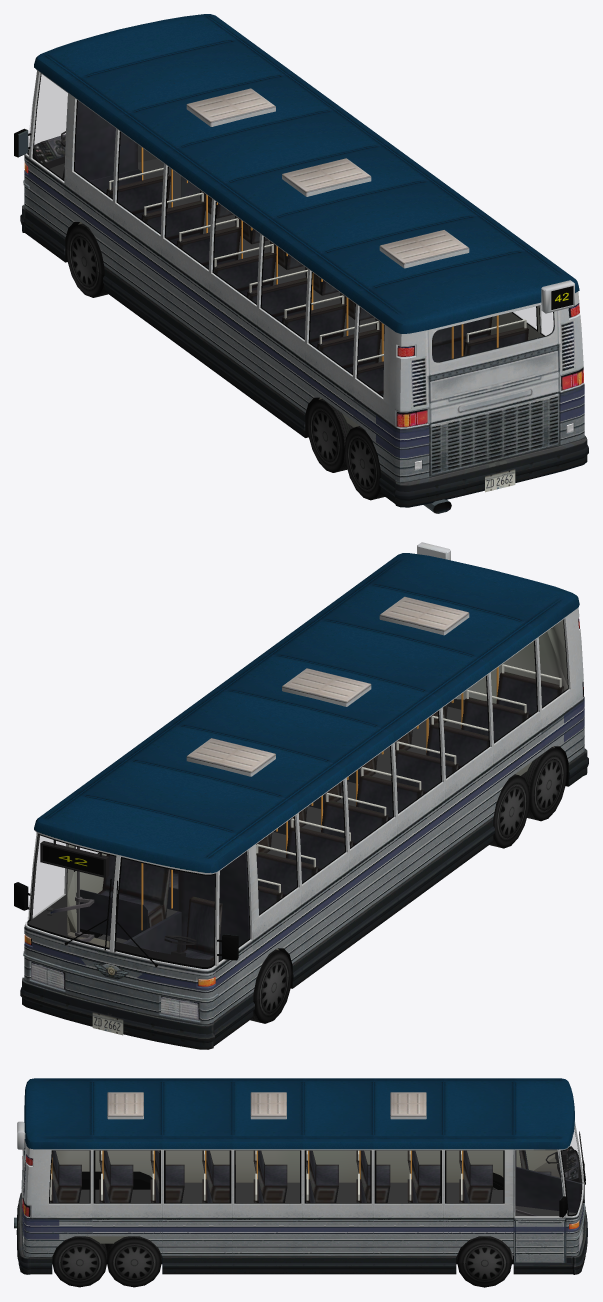
Rendered from busdrv_bus.FBX.
The picture shows the model from 3 angles, top to bottom: view 1: azimuth 30°, elevation 25°; view 2: azimuth 150°, elevation 25°; view 3: azimuth 270°, elevation 25°; orthographic projection. The views are drawn at different scales.
Parts seen in each view (by area): view 1: busdrv_bus, wheel_lm, wheel_lf, wheel_lr; view 2: busdrv_bus, wheel_lr, wheel_lf, wheel_lm; view 3: busdrv_bus, wheel_rm, wheel_rf, wheel_rr.
Boxes of the visible parts, <box> form: busdrv_bus: <box>14,14,588,513</box>; wheel_lm: <box>307,398,353,472</box>; wheel_lf: <box>66,223,107,297</box>; wheel_lr: <box>344,426,384,500</box>; busdrv_bus: <box>14,542,588,1049</box>; wheel_lr: <box>521,747,567,821</box>; wheel_lf: <box>250,949,292,1023</box>; wheel_lm: <box>489,774,529,848</box>; busdrv_bus: <box>14,1078,587,1274</box>; wheel_rm: <box>107,1236,161,1287</box>; wheel_rf: <box>457,1236,512,1287</box>; wheel_rr: <box>52,1236,106,1287</box>.
Bounding box in the file's own units: 335 × 1018 × 294.
